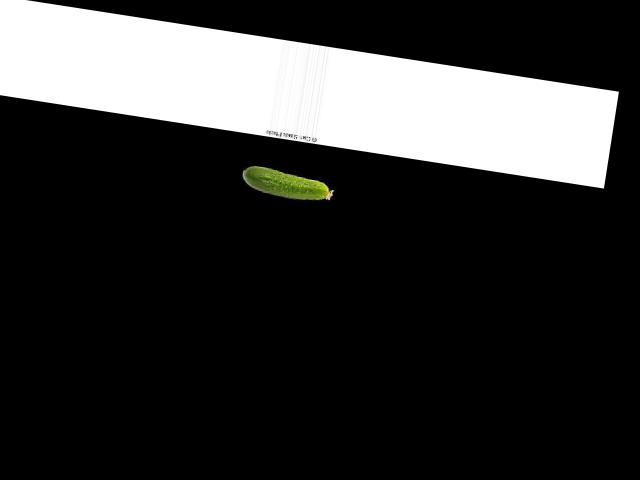cucumber: (239, 164, 335, 204)
